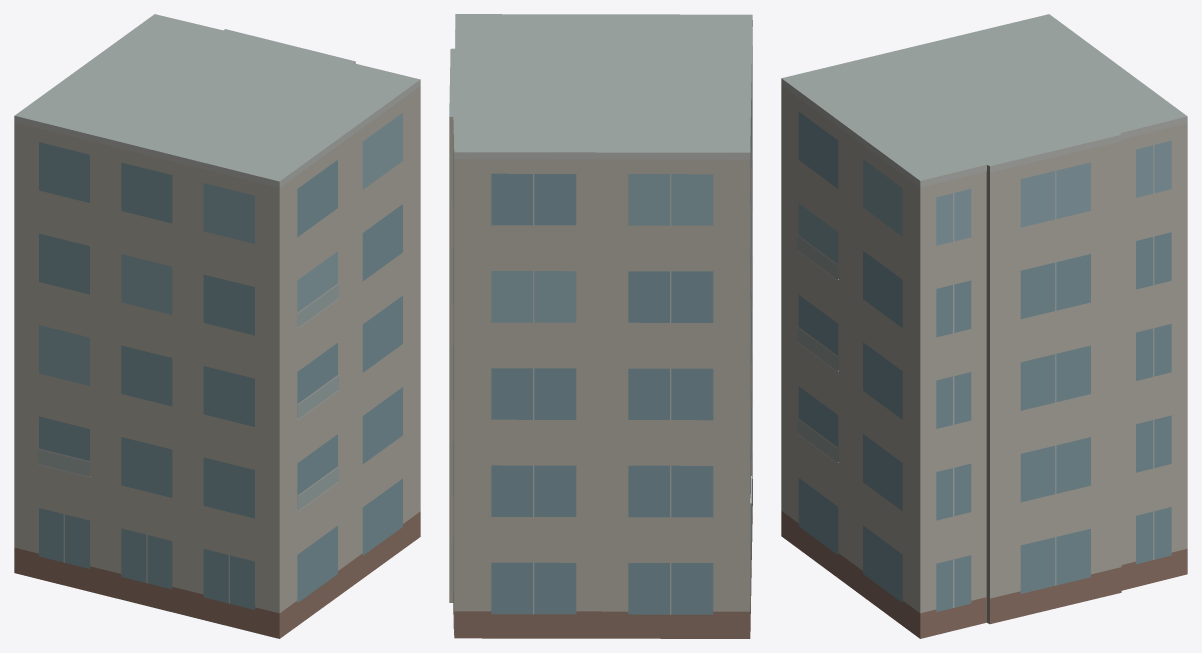
File: survey-upis-32718379.glb
3 renders of one model, left to right at view 1: azimuth 30°, elevation 25°; view 2: azimuth 150°, elevation 25°; view 3: azimuth 270°, elevation 25°, orthographic. The views are drawn at different scales.
Visible parts, largest first — view 1: survey-upis-32718379.tmp; view 2: survey-upis-32718379.tmp; view 3: survey-upis-32718379.tmp.
Part boxes in pixels (x1,y1,x2,y2): survey-upis-32718379.tmp: [14, 14, 420, 638]; survey-upis-32718379.tmp: [449, 14, 752, 638]; survey-upis-32718379.tmp: [781, 14, 1187, 638].
Size of the model in its own units: 13.38 by 17.1 by 13.76.
